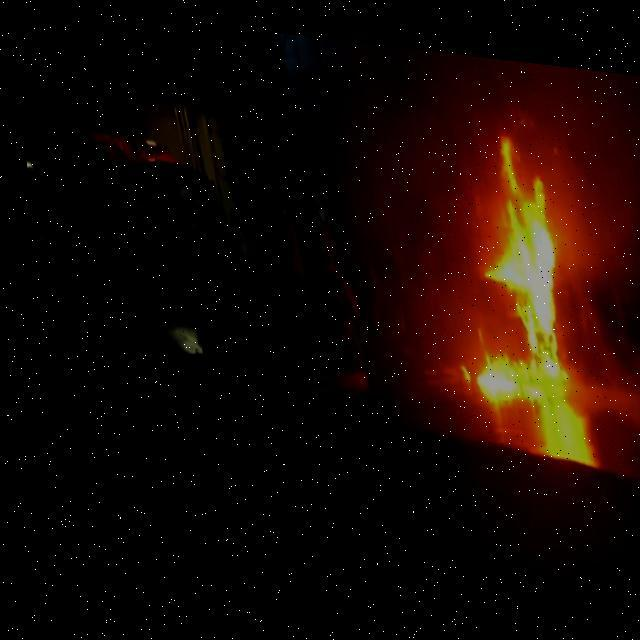Fire: (418, 114, 566, 394)
